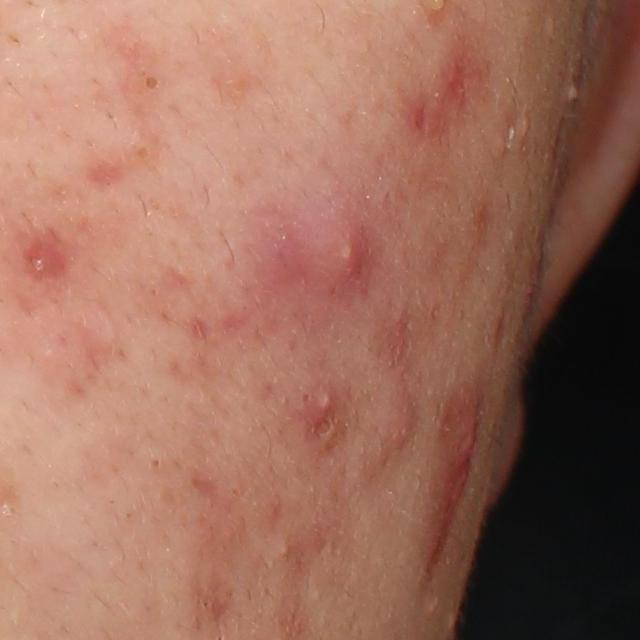atrophic_scar: (192, 475, 224, 507), (87, 161, 123, 185)
comedo: (140, 72, 165, 97), (130, 140, 152, 164), (148, 455, 164, 473), (276, 541, 291, 559)
papule: (441, 402, 483, 506), (378, 390, 419, 453)
pustule: (298, 379, 345, 427)
